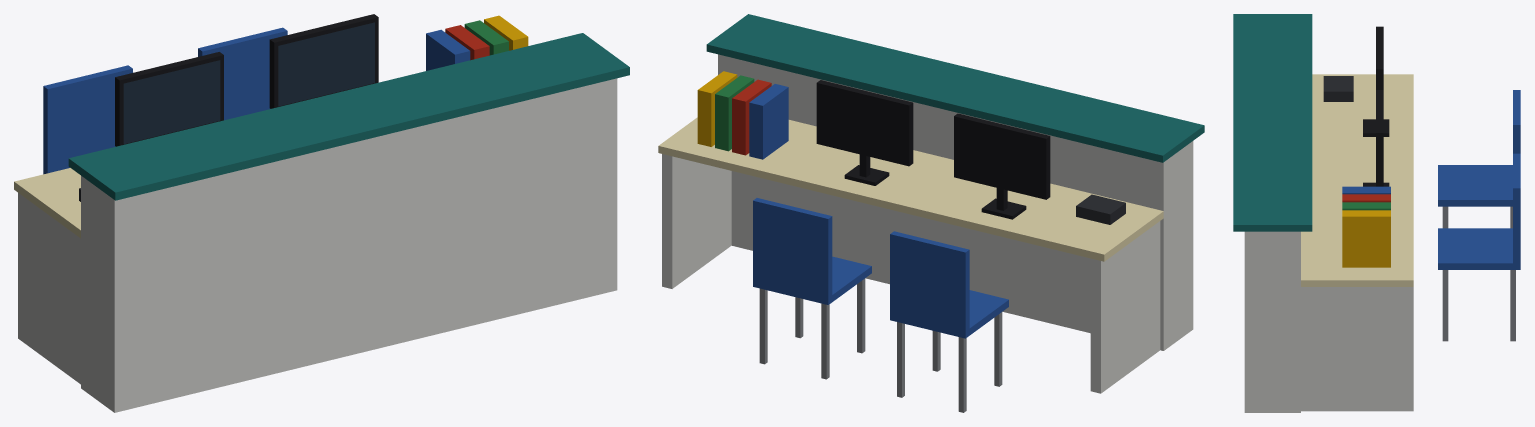
Rendered from prop_nurses-station.cef97e9ce359.glb.
3 renders of one model, left to right at view 1: azimuth 30°, elevation 25°; view 2: azimuth 150°, elevation 25°; view 3: azimuth 270°, elevation 25°, orthographic. The views are drawn at different scales.
Parts seen in each view (by area): view 1: body; view 2: body; view 3: body.
Boxes of the visible parts, <box> form: body: <box>14,14,629,412</box>; body: <box>658,14,1204,412</box>; body: <box>1233,14,1520,412</box>.
Size of the model in its own units: 2.66 by 1.26 by 1.53.
